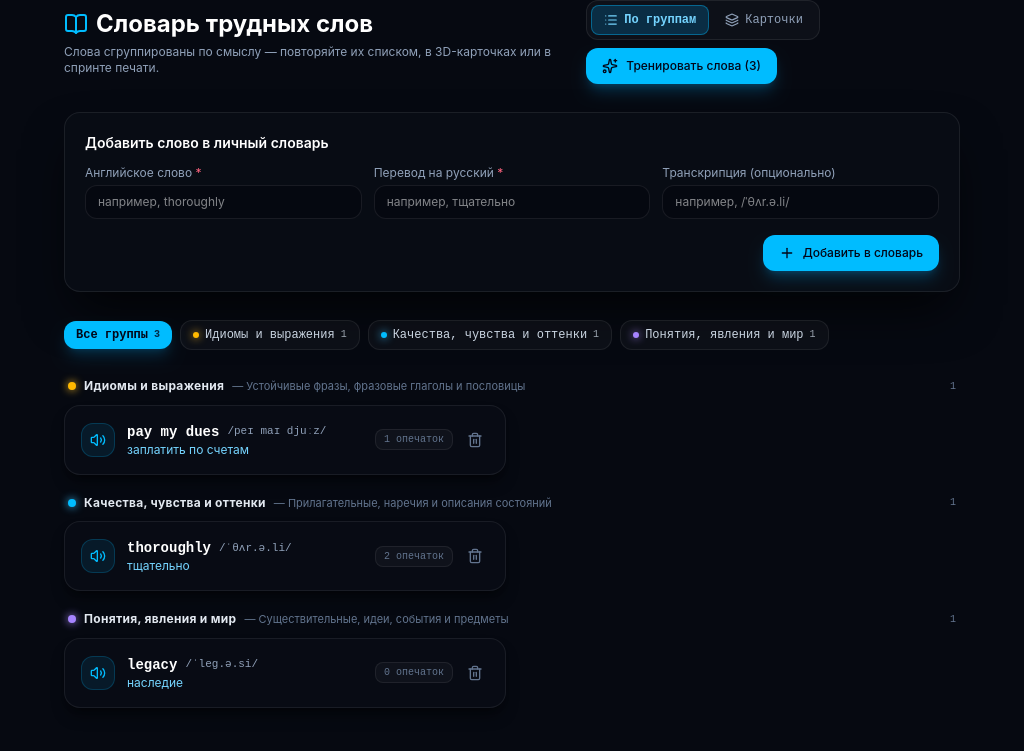
Scenario: Design System (shadcn/ui) & Scalable Music Catalog Tests › VocabularyView: groups words semantically and supports 3D Flashcards memorization mode
This screenshot has width=1024, height=751.
Check: the element with test id "vocab-group-idioms" is shown, box [64,378,960,474]
Check: the element with test id "vocab-group-qualities" is shown, box [64,494,960,591]
// Filter to idioms only
Click the button with test id "vocab-filter-idioms".
click(270, 335)  # box [180,320,360,350]
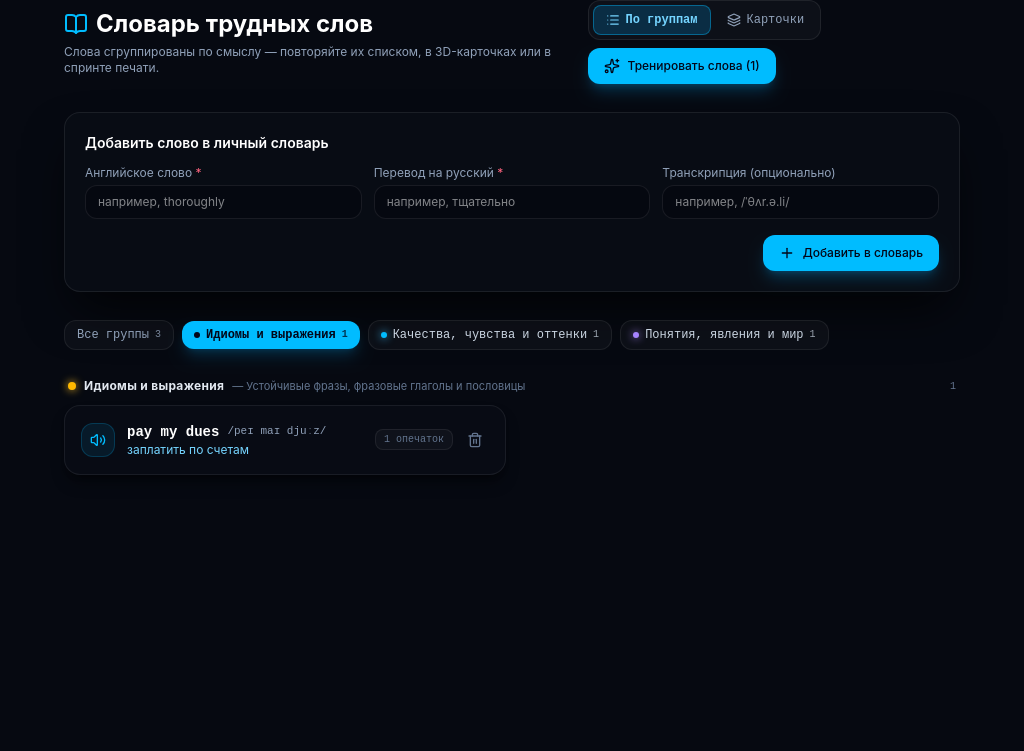
Check: the element with test id "word-item-pay my dues" is shown, box [64,404,506,474]
Check: the element with test id "word-item-legacy" is gone
// Reset filter to ALL and switch to 3D Flashcards mode
Click the button with test id "vocab-filter-ALL".
click(119, 335)  # box [64,320,174,350]
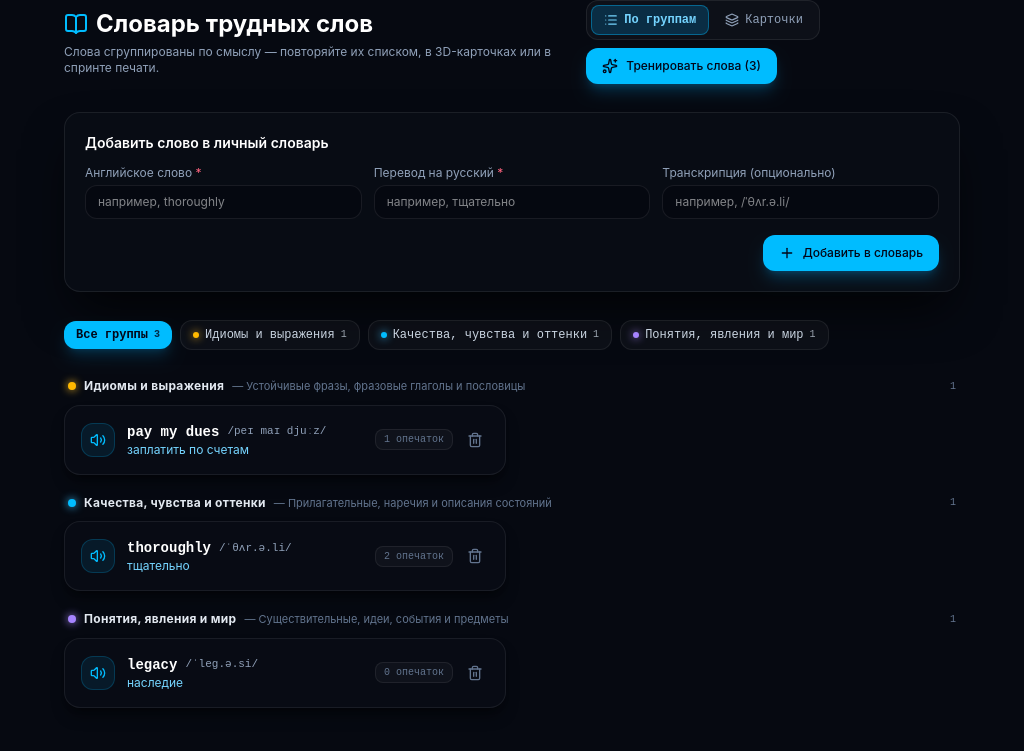
Click the button with test id "vocab-mode-flashcards".
click(764, 20)  # box [713,6,815,34]
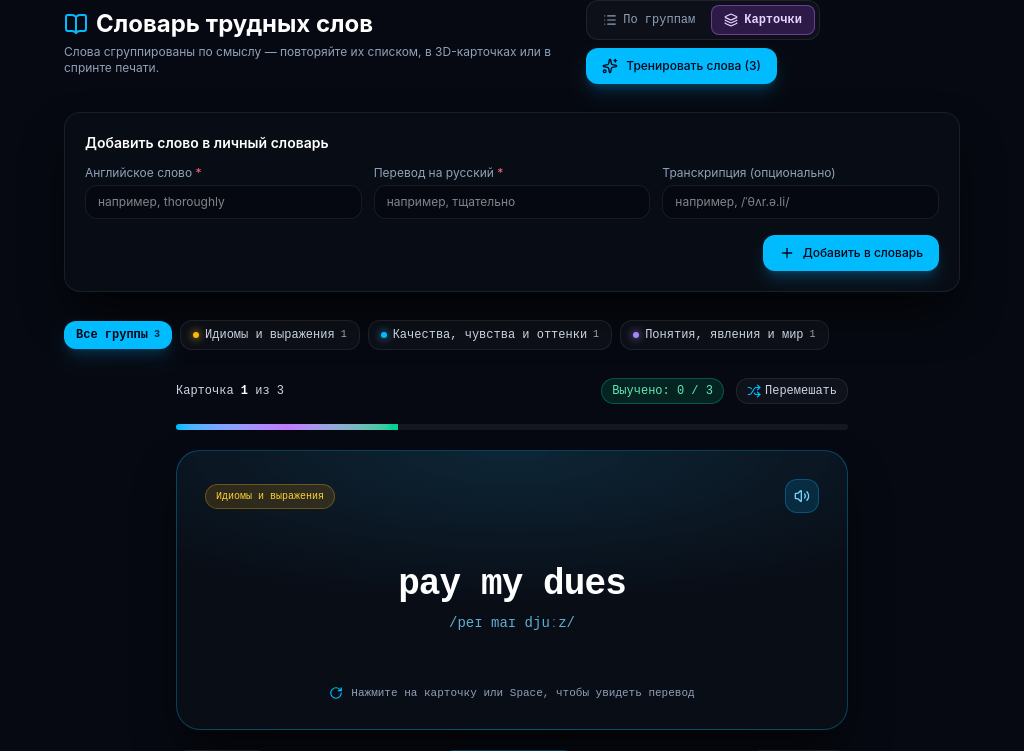
// Flip card and mark as known
Click the button with test id "flashcard-card".
click(512, 590)  # box [176,450,848,730]
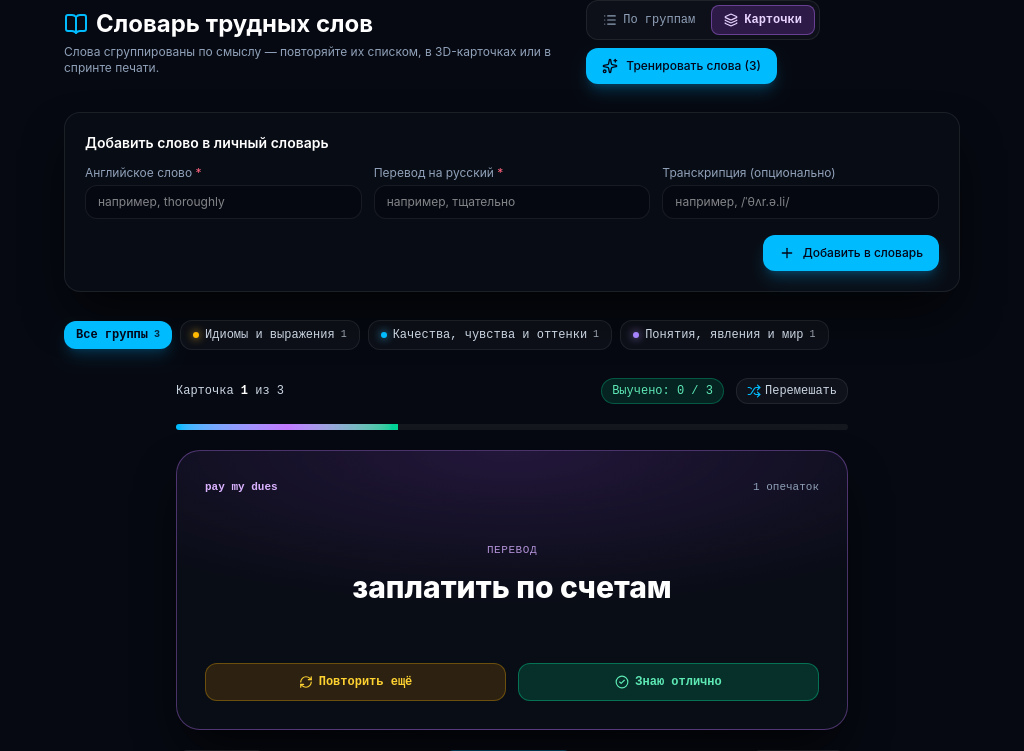
Click the button with test id "flashcard-know-btn".
click(668, 682)  # box [518,663,819,701]
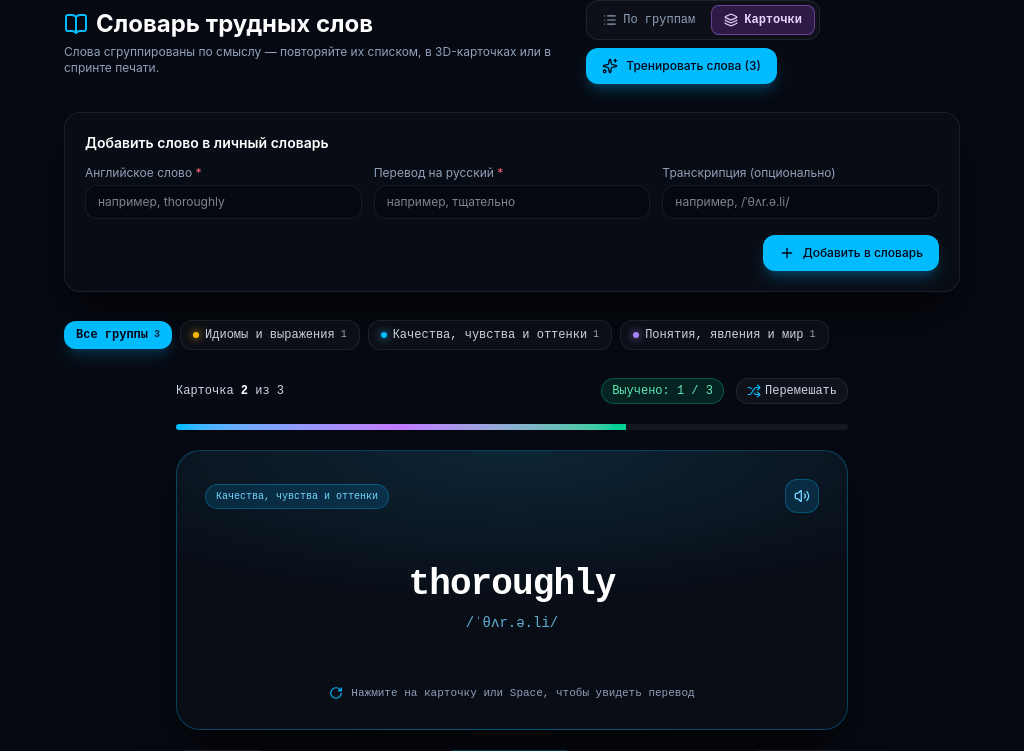
Check: the text "Выучено: 1 / 3" is shown, box [601,378,724,404]
